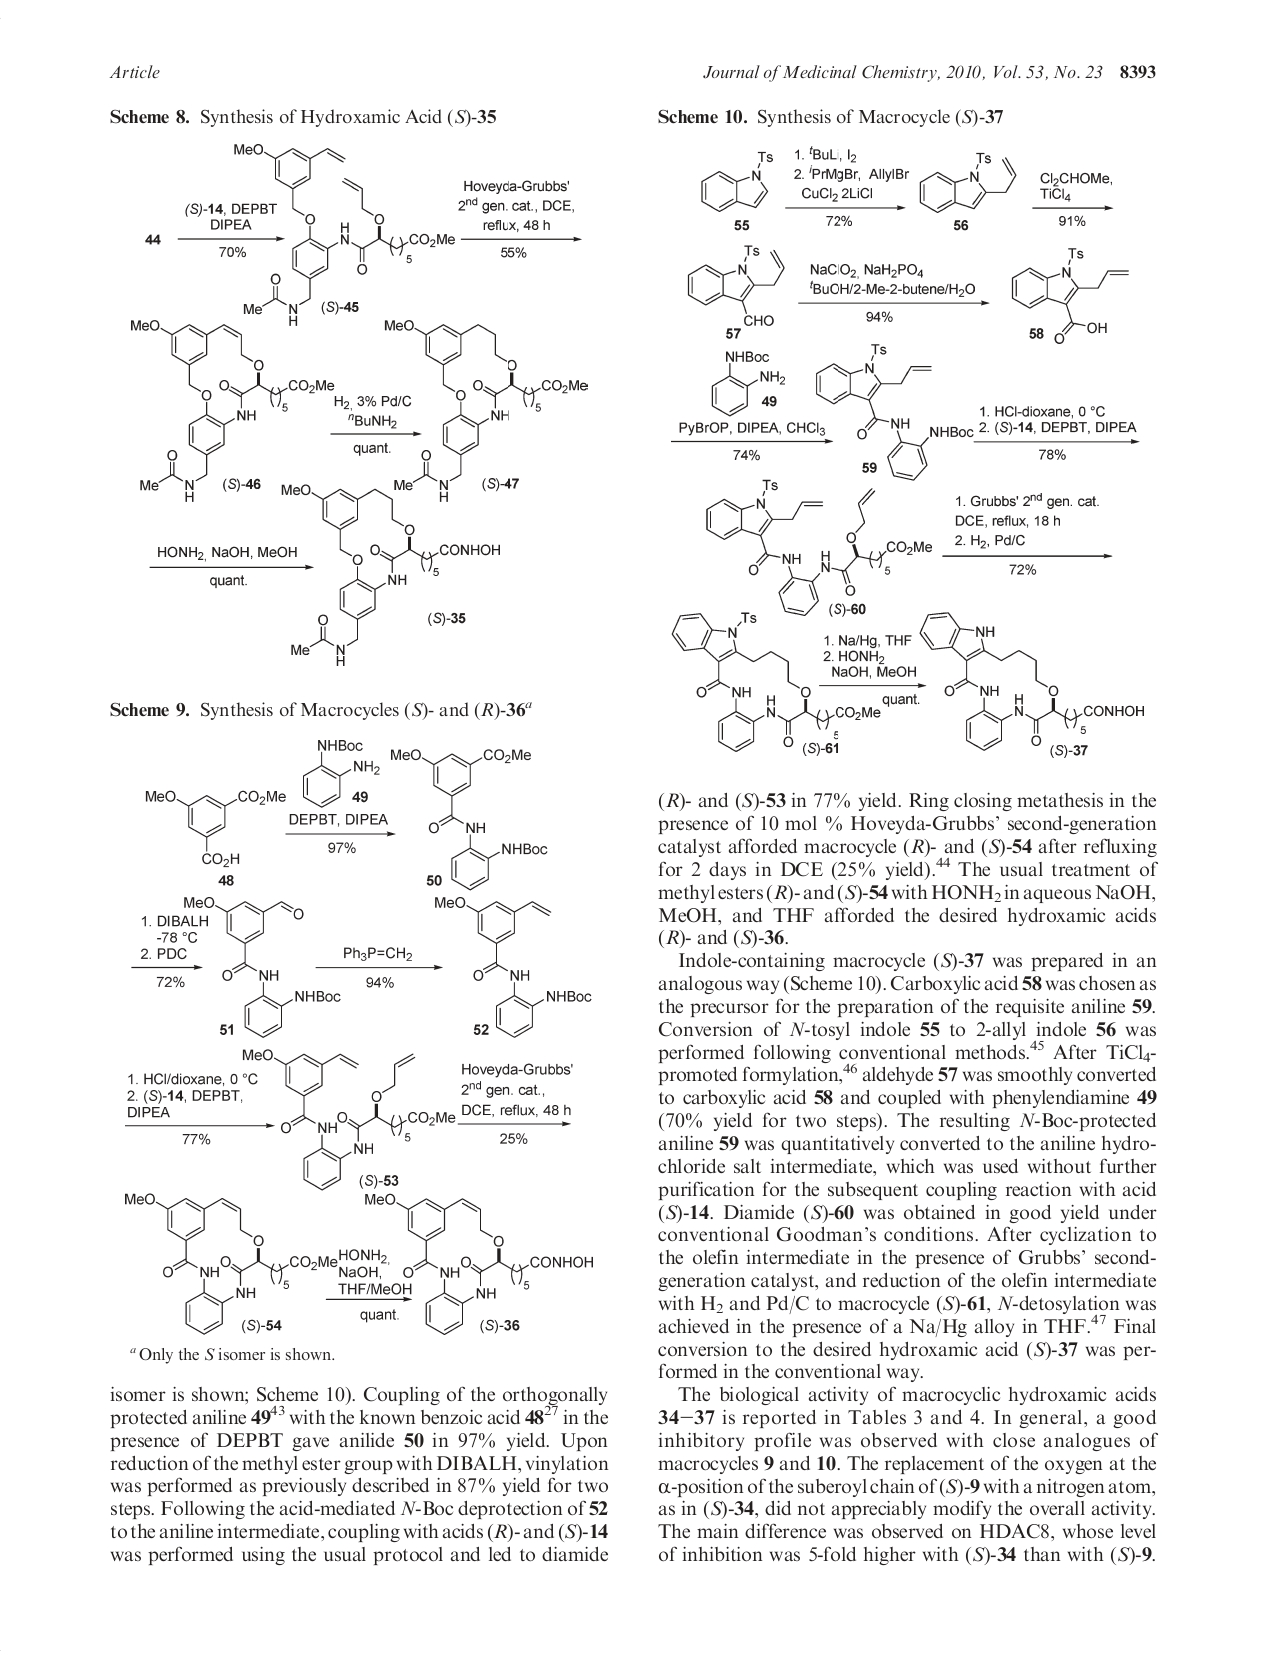exist_molecular: (227, 140, 455, 330), (278, 481, 503, 670), (128, 317, 336, 504), (382, 317, 592, 503), (360, 1189, 596, 1337), (918, 609, 1146, 754), (118, 1190, 340, 1335), (703, 477, 934, 617), (239, 1045, 459, 1192), (670, 610, 883, 754), (180, 892, 344, 1041), (386, 743, 551, 891), (431, 892, 592, 1041), (814, 340, 976, 481), (1009, 243, 1130, 346), (142, 789, 287, 870), (685, 242, 787, 328), (918, 152, 1019, 215), (301, 735, 382, 809), (709, 348, 787, 416), (699, 148, 777, 213)
